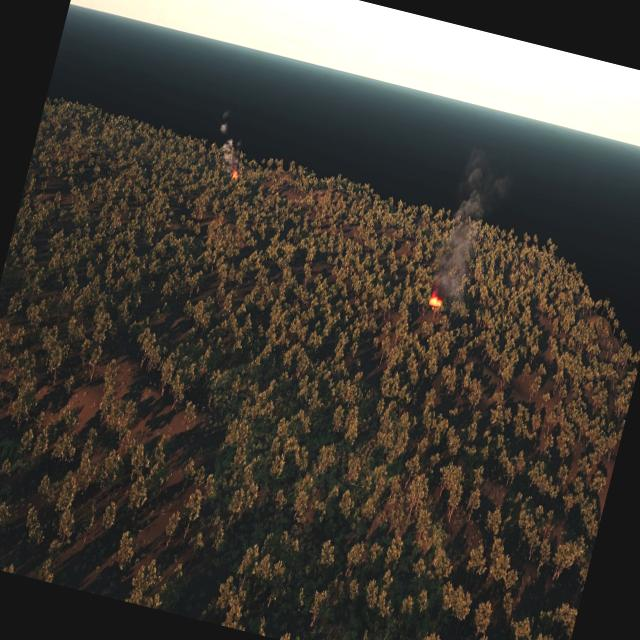fire: (428, 292, 443, 310), (231, 167, 240, 179)
smoke: (428, 210, 487, 302), (449, 144, 516, 223), (208, 108, 250, 174)
